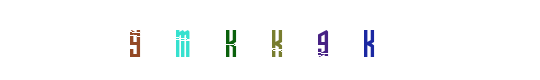9: (230, 0, 310, 80)
G: (142, 0, 222, 80)
K: (190, 0, 270, 80), (212, 0, 292, 80), (307, 0, 387, 80)
M: (165, 0, 245, 80)
